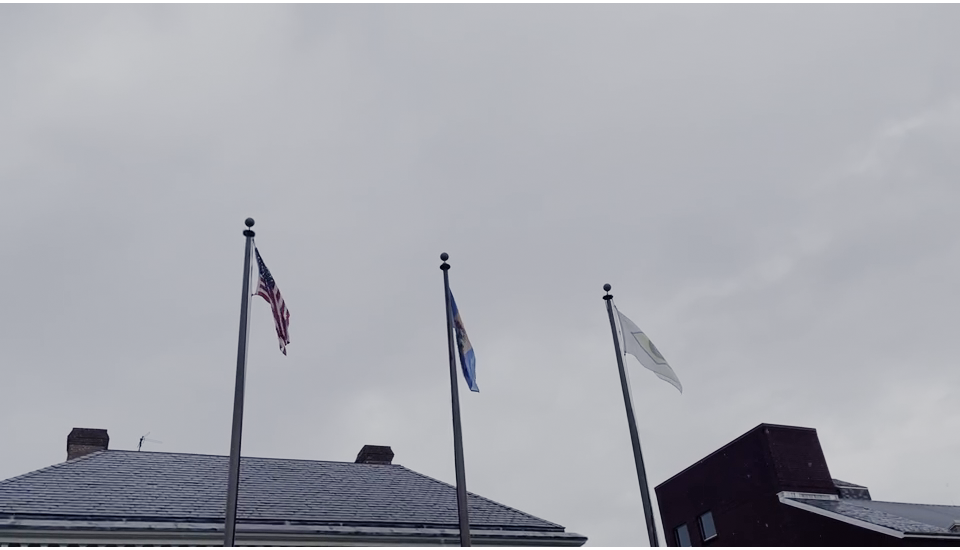America flag: (250, 243, 292, 357)
Delaware flag: (446, 273, 486, 393)
